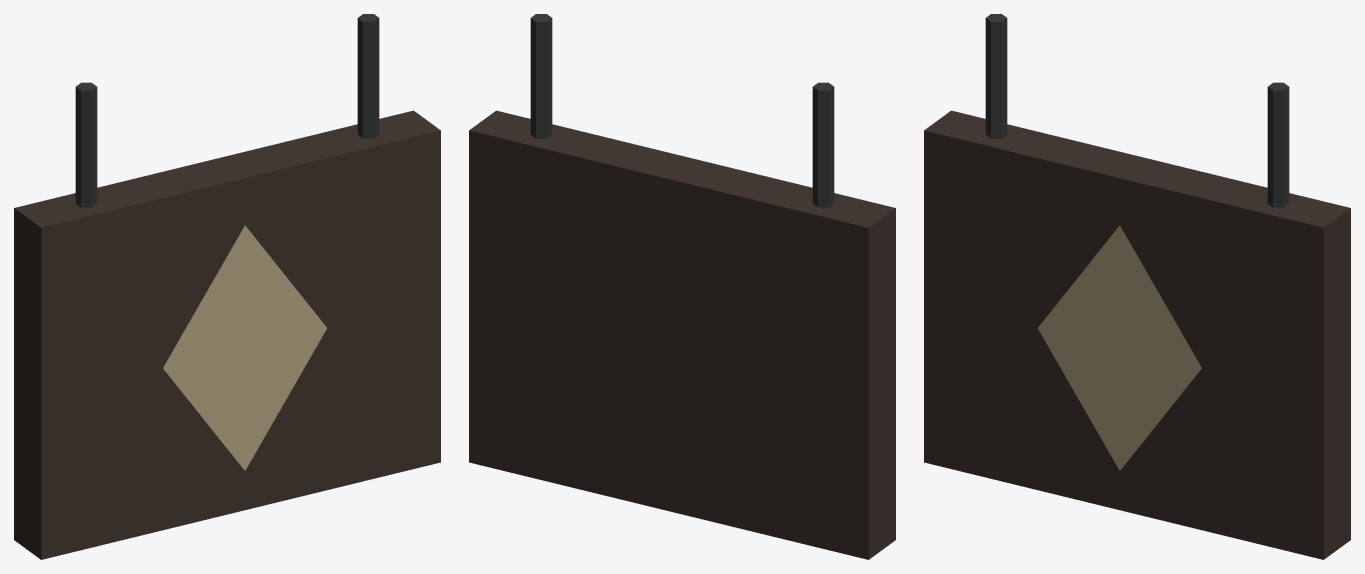
Rendered from sign_relics.glb.
3 views of the same model, side by side, from view 1: azimuth 30°, elevation 25°; view 2: azimuth 150°, elevation 25°; view 3: azimuth 330°, elevation 25° (orthographic).
Parts seen in each view (by area): view 1: signboard.003, diamond mark, sign chain.006, sign chain.007; view 2: signboard.003, sign chain.006, sign chain.007; view 3: signboard.003, diamond mark, sign chain.007, sign chain.006.
Boxes of the visible parts, x1,y1,x2,y2 form: signboard.003: (14,110,440,559); diamond mark: (163,225,327,470); sign chain.006: (75,82,97,207); sign chain.007: (357,14,379,138); signboard.003: (469,110,895,559); sign chain.006: (812,82,834,207); sign chain.007: (530,14,552,138); signboard.003: (924,110,1350,559); diamond mark: (1037,225,1201,470); sign chain.007: (1267,82,1289,207); sign chain.006: (985,14,1007,138).
Bounding box in the file's own units: 0.34 × 0.365 × 0.046.
